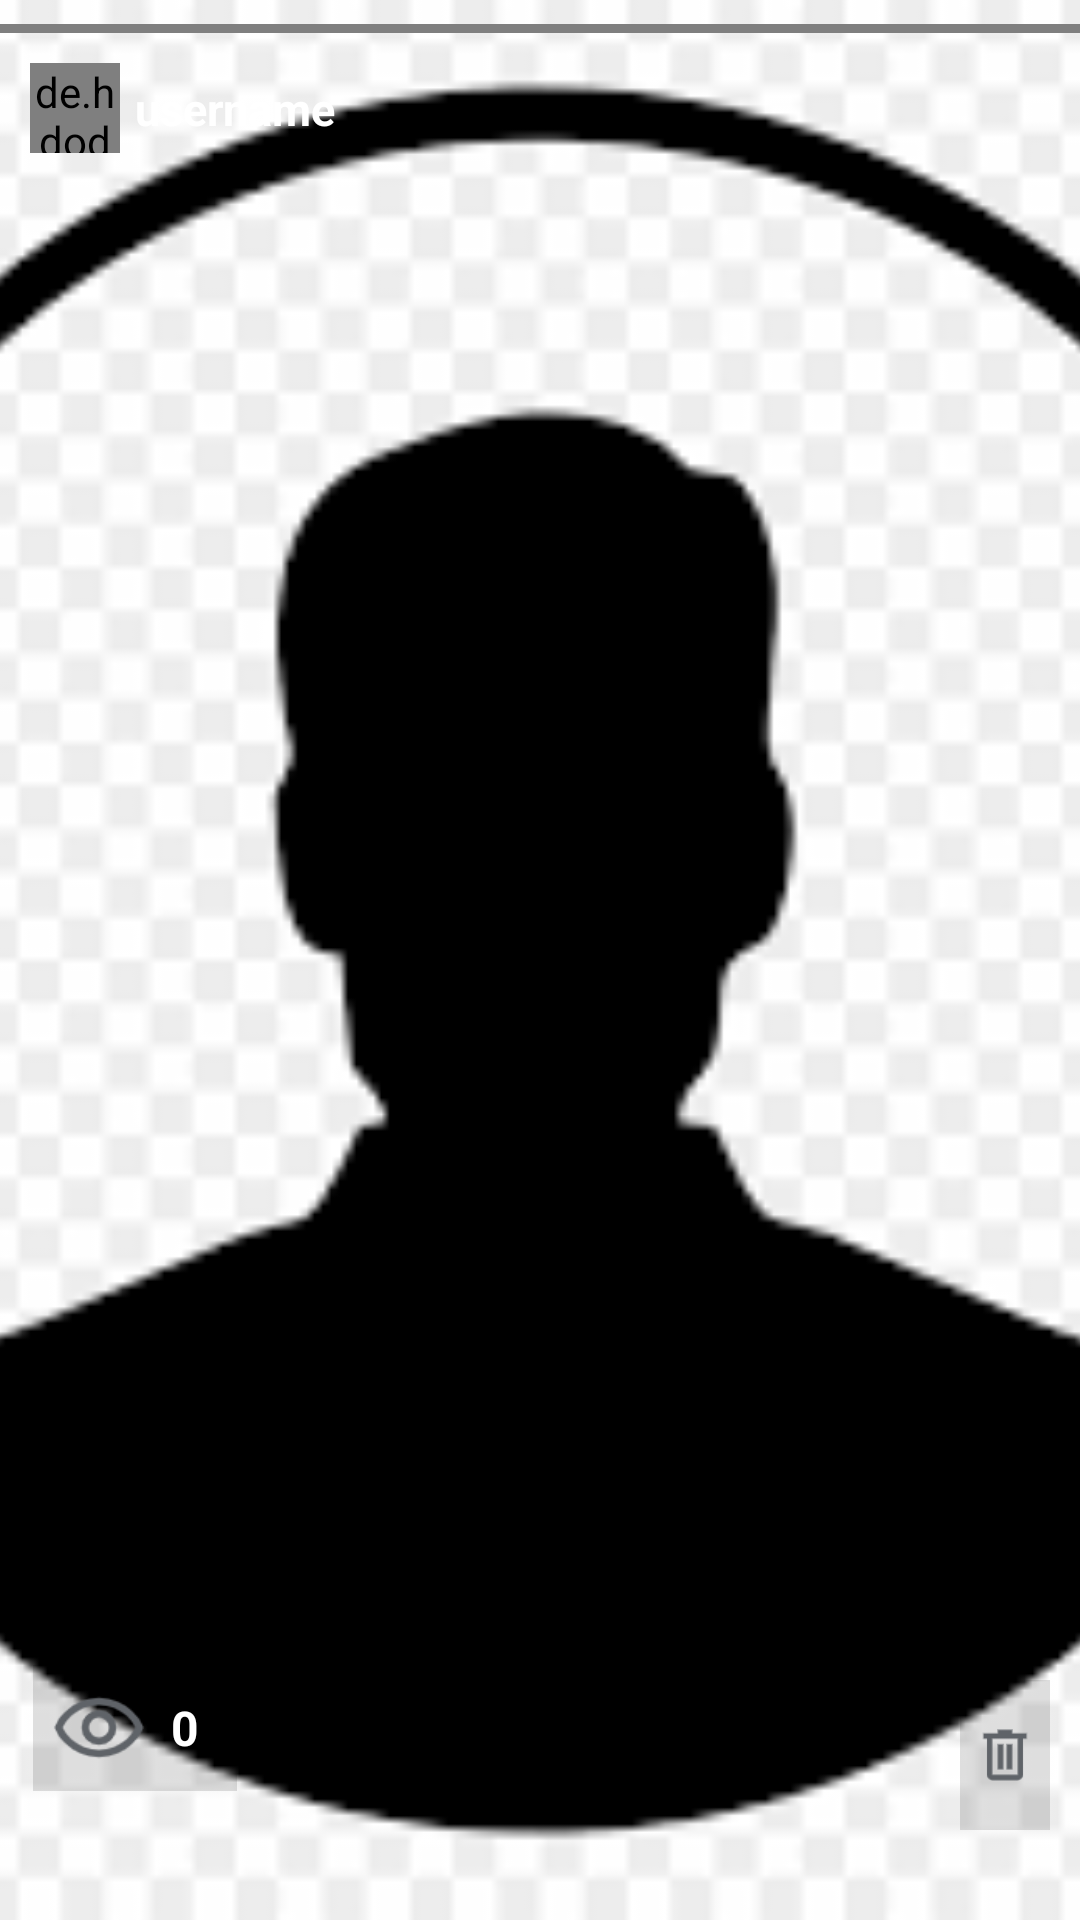

Where to tap for icons on this 1080x1920 app screen, as point (x, y):
delete story: point (1005, 1755)
story view: point (99, 1727)
